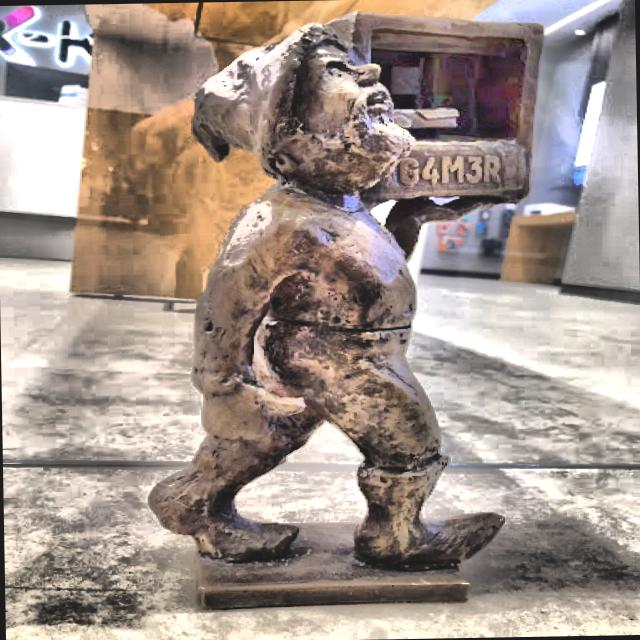GigaHercjusz: (150, 14, 542, 608)
